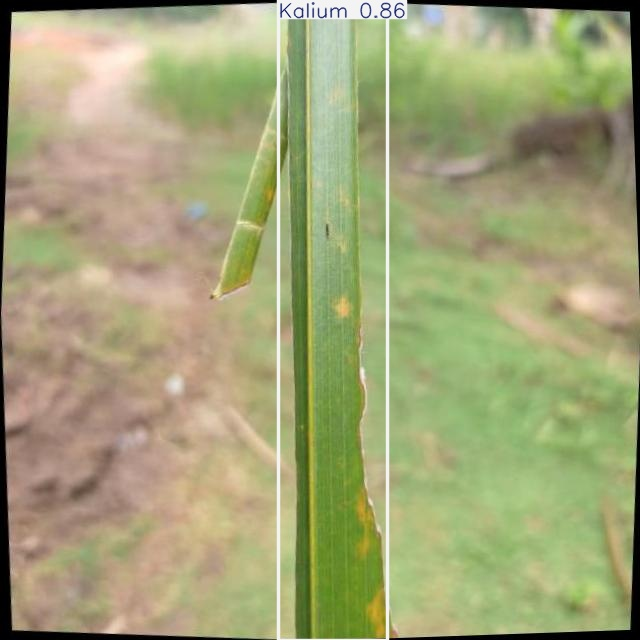Kalium: (278, 0, 388, 640)
